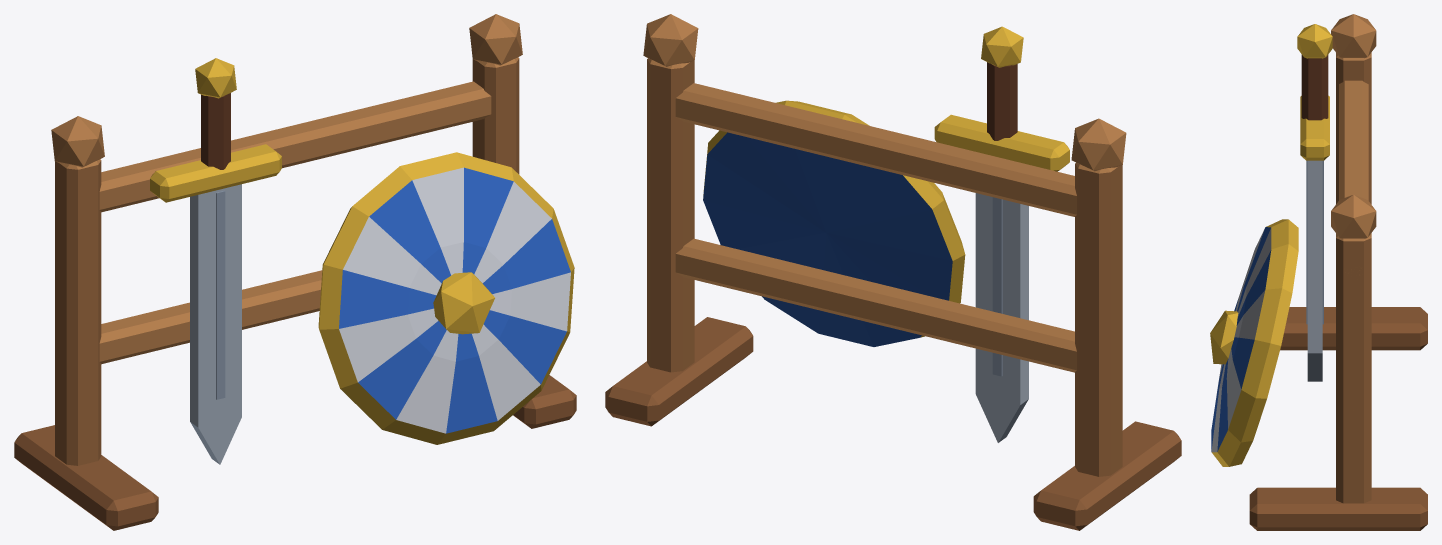
The model's file is habitat_prop_sir_goo.fbx.
3 renders of one model, left to right at view 1: azimuth 30°, elevation 25°; view 2: azimuth 150°, elevation 25°; view 3: azimuth 270°, elevation 25°, orthographic. The views are drawn at different scales.
Parts seen in each view (by area): view 1: habitat_prop_sir_goo; view 2: habitat_prop_sir_goo; view 3: habitat_prop_sir_goo.
Part boxes in pixels (x1,y1,x2,y2): habitat_prop_sir_goo: (14,14,576,530); habitat_prop_sir_goo: (605,14,1181,530); habitat_prop_sir_goo: (1210,14,1427,530).
Bounding box in the file's own units: 1.62 × 1.37 × 0.7338.
